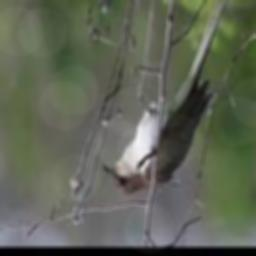Cuckoo: (102, 0, 228, 197)
